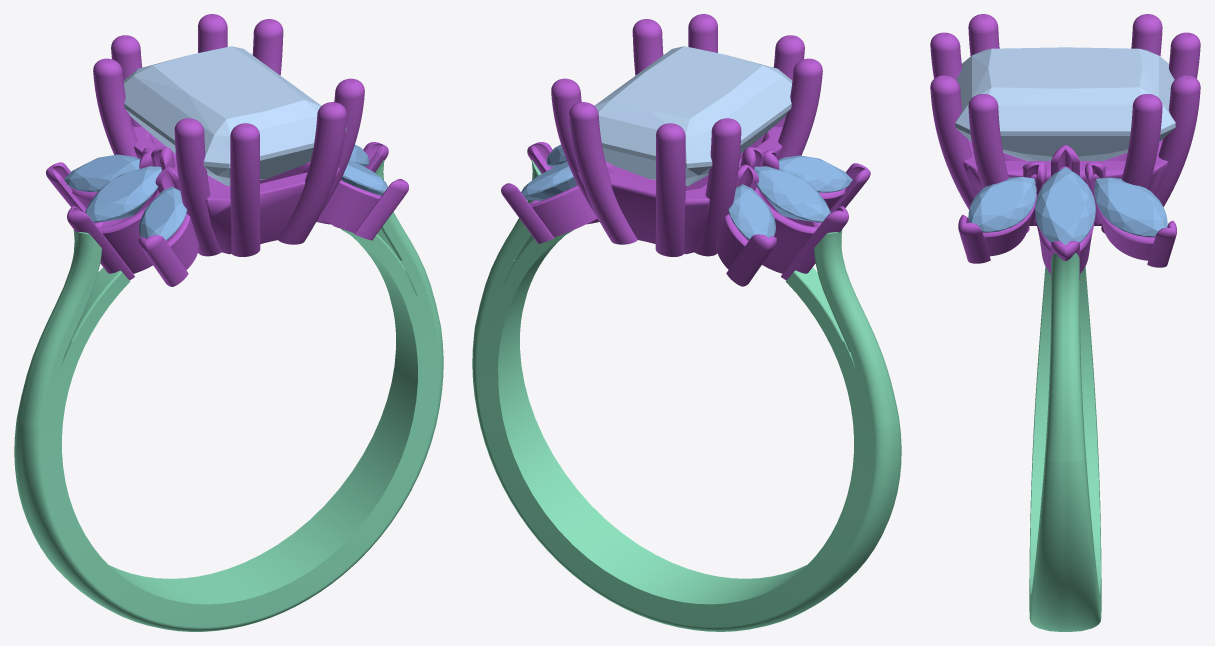
3 renders of one model, left to right at view 1: azimuth 30°, elevation 25°; view 2: azimuth 150°, elevation 25°; view 3: azimuth 270°, elevation 25°, orthographic.
Visible parts, largest first — view 1: anillo 05.3dm, Head Prong (×12), Diamond_Radiant, Head Rail (×4), Diamond_Marquise (×4); view 2: anillo 05.3dm, Head Prong (×12), Diamond_Radiant, Head Rail (×4), Diamond_Marquise (×4); view 3: anillo 05.3dm, Head Prong (×14), Diamond_Radiant, Diamond_Marquise (×3), Head Rail (×4).
Part boxes in pixels (<box>): anillo 05.3dm: <box>14,160,443,631</box>; Head Prong (×12): <box>46,14,408,286</box>; Diamond_Radiant: <box>123,46,346,186</box>; Head Rail (×4): <box>94,126,381,273</box>; Diamond_Marquise (×4): <box>64,154,387,240</box>; anillo 05.3dm: <box>472,160,901,631</box>; Head Prong (×12): <box>501,14,870,286</box>; Diamond_Radiant: <box>569,46,792,185</box>; Head Rail (×4): <box>529,126,821,273</box>; Diamond_Marquise (×4): <box>521,155,852,239</box>; anillo 05.3dm: <box>1029,253,1101,631</box>; Head Prong (×14): <box>930,14,1200,279</box>; Diamond_Radiant: <box>955,47,1175,160</box>; Diamond_Marquise (×3): <box>968,167,1167,245</box>; Head Rail (×4): <box>963,139,1167,273</box>.
Bounding box in the file's own units: 2.36 × 2.95 × 1.31.
